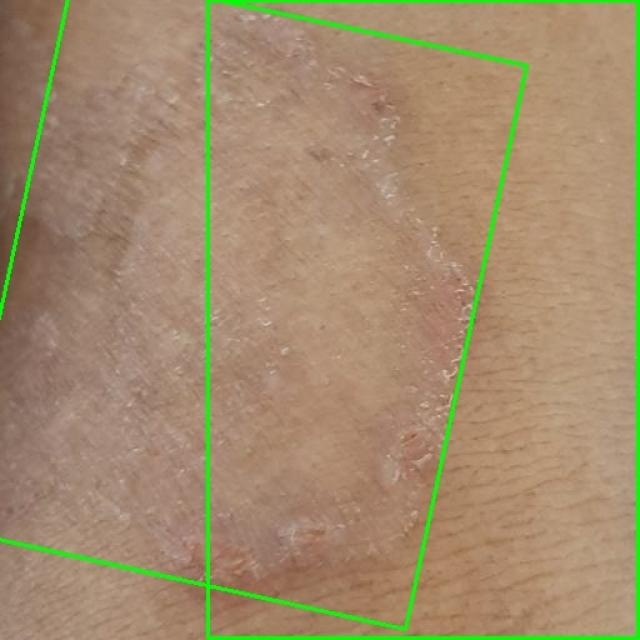Tinea Corporis: (0, 0, 527, 635), (209, 0, 639, 639)
